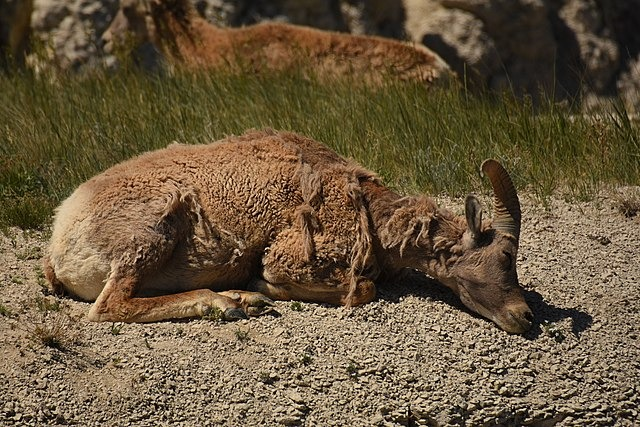resting: (43, 126, 540, 337)
